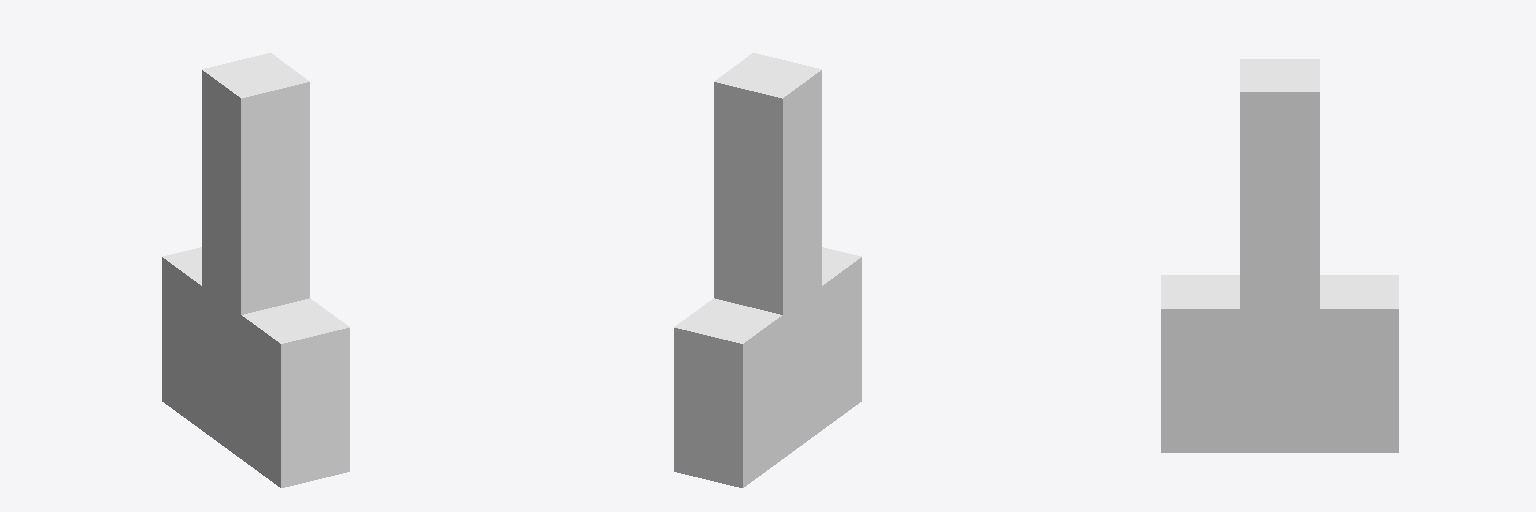
Rendered from robot-4.obj.
3 renders of one model, left to right at view 1: azimuth 30°, elevation 25°; view 2: azimuth 150°, elevation 25°; view 3: azimuth 270°, elevation 25°, orthographic.
Visible parts, largest first — view 1: object 1; view 2: object 1; view 3: object 1.
Part boxes in pixels (left/top/right/bottom): object 1: left=162, top=53, right=349, bottom=487; object 1: left=674, top=53, right=861, bottom=487; object 1: left=1161, top=59, right=1398, bottom=452.
Bounding box in the file's own units: 0.1 × 0.5 × 0.3.